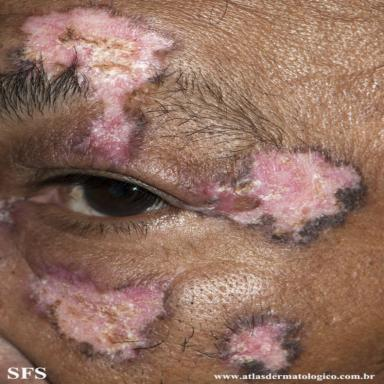Lupus-Erythematosus-Chronicus-Discoides: (7, 4, 180, 169), (191, 139, 367, 248), (24, 263, 174, 368), (215, 313, 304, 375)
